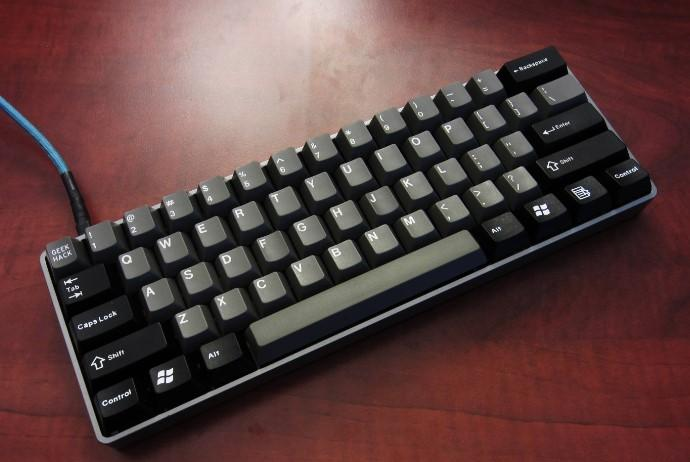Keyboard: (39, 47, 658, 453)
